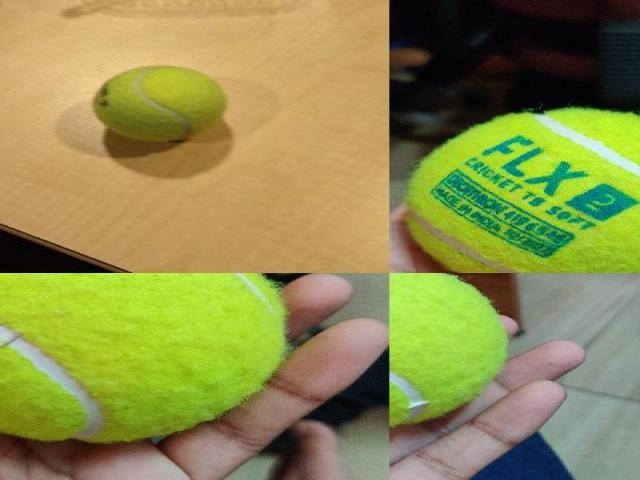tennis-ball: (0, 273, 284, 443), (406, 108, 638, 272), (389, 273, 507, 430), (92, 64, 228, 142)
